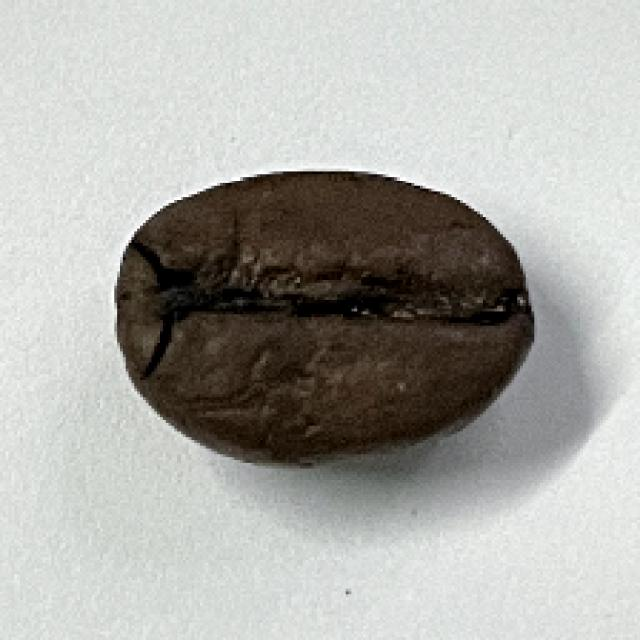bean: (113, 172, 535, 466)
